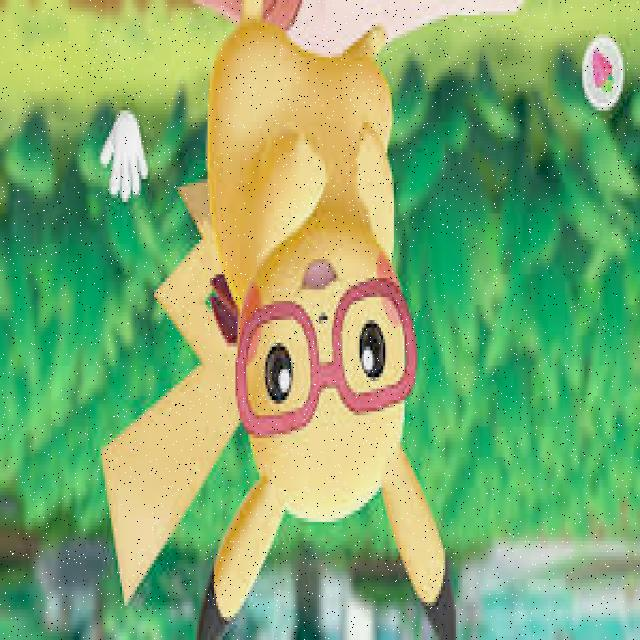pikachu: (111, 4, 452, 639)
